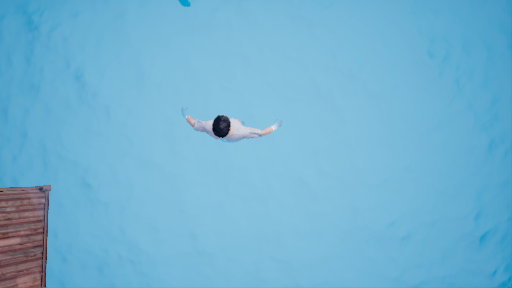person: (179, 99, 281, 149)
